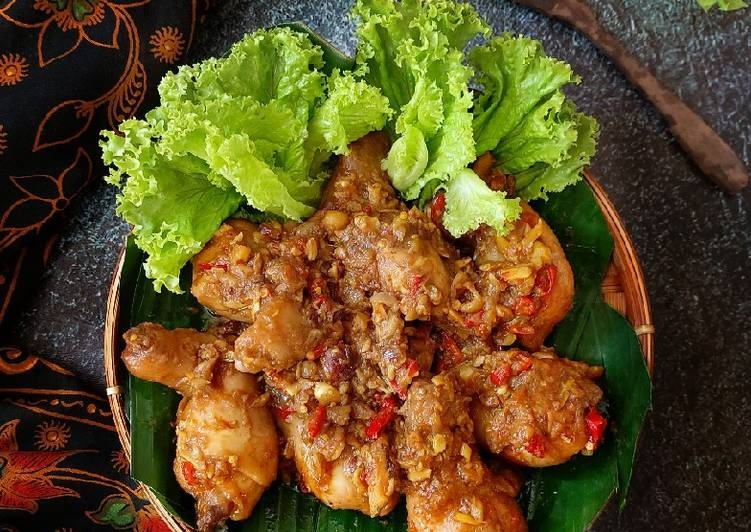ayam_betutu: (192, 256, 607, 532), (123, 295, 606, 532), (211, 235, 576, 295), (335, 158, 384, 238)
